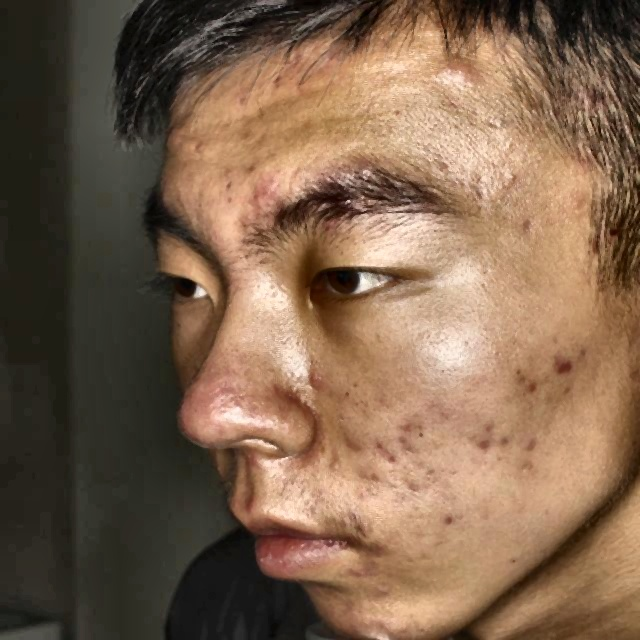pustule: (542, 349, 582, 390), (468, 425, 500, 461), (251, 180, 281, 214), (392, 408, 428, 436), (369, 439, 395, 471), (339, 430, 357, 462)
